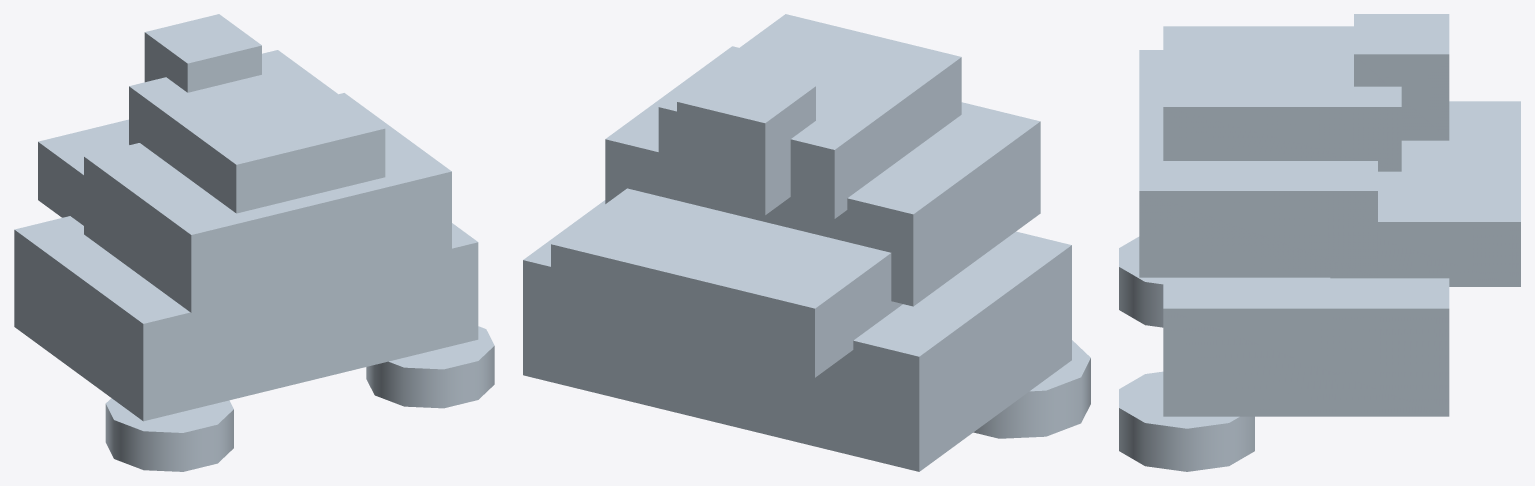
The model's file is stage_minarm.gltf.
3 renders of one model, left to right at view 1: azimuth 30°, elevation 25°; view 2: azimuth 150°, elevation 25°; view 3: azimuth 270°, elevation 25°, orthographic. The views are drawn at different scales.
Parts seen in each view (by area): view 1: stage_minarm; view 2: stage_minarm; view 3: stage_minarm.
Part boxes in pixels (x1,y1,x2,y2): stage_minarm: [14, 14, 494, 471]; stage_minarm: [523, 14, 1090, 471]; stage_minarm: [1119, 14, 1520, 471].
Bounding box in the file's own units: 1 × 0.78 × 0.8427.
